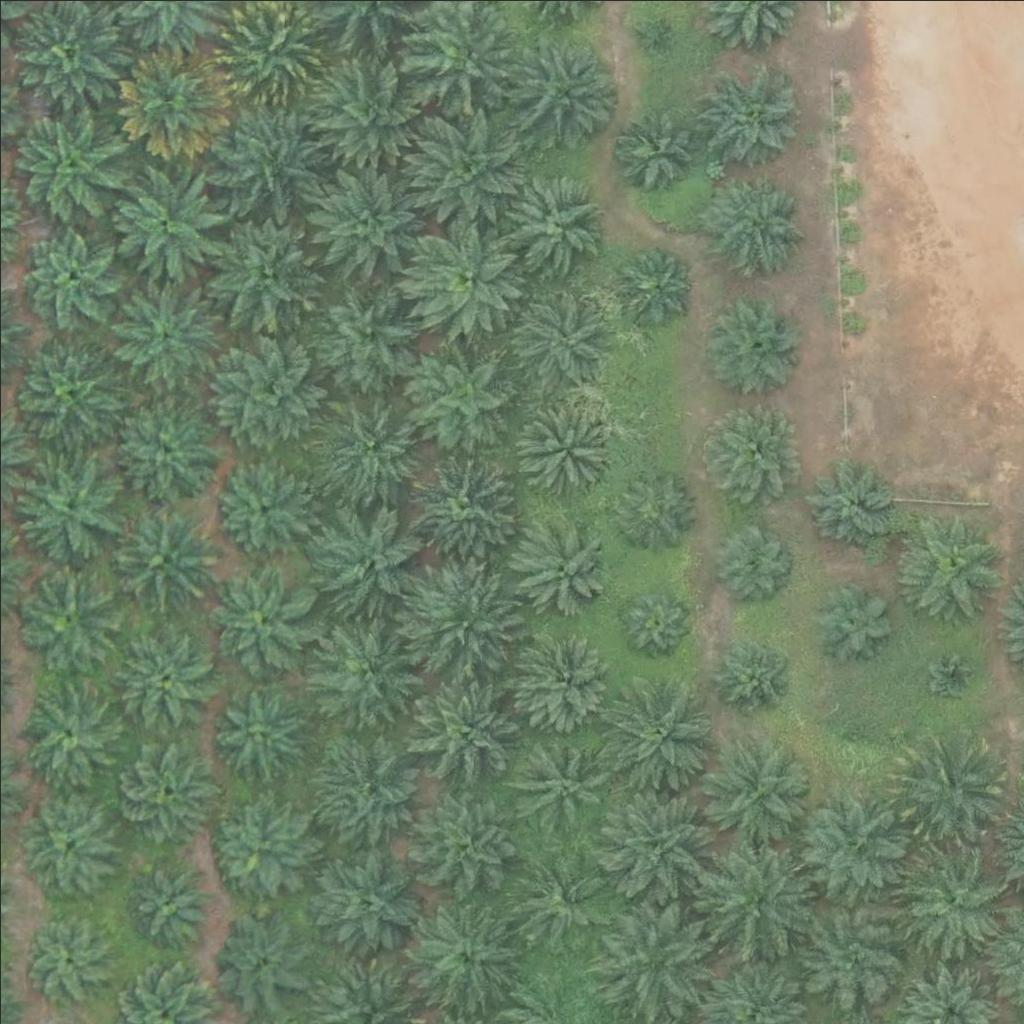Kelapa_Sawit: (602, 685, 715, 799), (702, 844, 815, 958), (507, 34, 620, 148), (307, 846, 420, 959), (311, 736, 424, 849), (411, 899, 524, 1012), (405, 782, 518, 895), (697, 735, 810, 848), (795, 895, 908, 1008), (403, 564, 516, 677), (402, 447, 515, 560), (306, 616, 419, 729), (309, 502, 422, 615), (315, 391, 428, 504), (307, 276, 420, 389), (207, 336, 320, 449), (204, 222, 317, 335), (205, 104, 318, 217), (14, 449, 127, 562), (116, 43, 229, 156), (406, 670, 518, 784), (599, 904, 711, 1018), (597, 787, 709, 901), (893, 509, 1005, 623), (408, 106, 520, 220), (894, 734, 1006, 847), (791, 788, 903, 901), (896, 844, 1008, 957), (408, 338, 520, 451), (409, 217, 521, 330), (306, 165, 418, 278), (203, 562, 315, 675), (108, 623, 220, 736), (101, 496, 213, 609), (108, 390, 220, 503), (108, 271, 220, 384), (111, 165, 223, 278), (8, 331, 120, 444), (7, 107, 119, 220), (317, 50, 429, 163), (18, 794, 118, 895), (18, 677, 118, 778), (114, 740, 214, 841), (209, 907, 309, 1008), (208, 797, 308, 898), (211, 683, 311, 784), (707, 175, 807, 276), (515, 626, 615, 727), (509, 514, 609, 615), (514, 396, 614, 497), (209, 457, 309, 558), (19, 223, 119, 324), (699, 64, 799, 165), (511, 851, 611, 951), (507, 732, 607, 832), (697, 402, 797, 502), (702, 295, 802, 395), (504, 283, 604, 383), (502, 170, 602, 270), (17, 574, 117, 674), (122, 858, 210, 946), (800, 462, 888, 550), (23, 915, 110, 1003), (807, 577, 894, 665), (708, 627, 795, 715), (711, 518, 798, 606), (609, 463, 696, 551), (611, 107, 698, 195), (616, 247, 691, 323), (618, 584, 693, 659), (926, 650, 976, 701), (829, 714, 879, 764), (635, 22, 660, 47)
